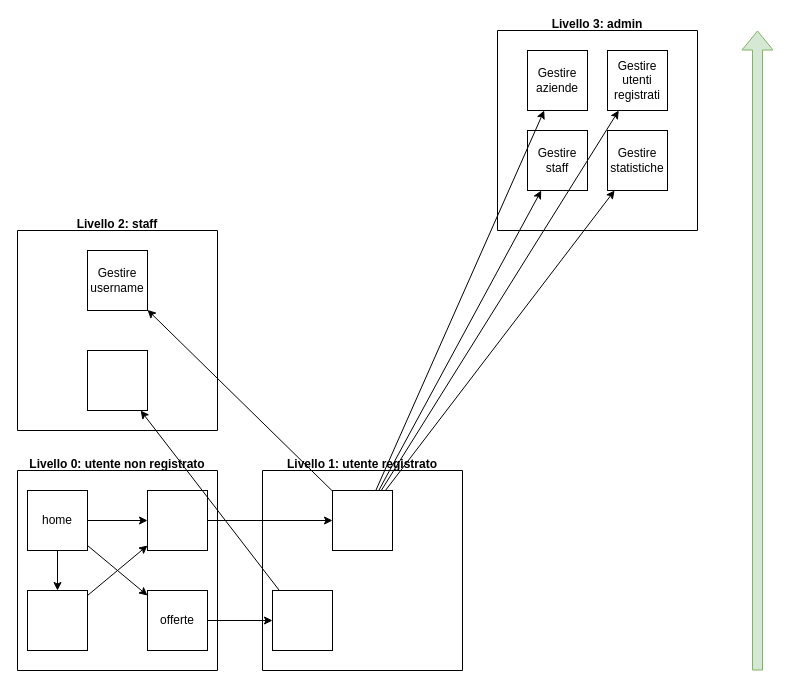
Image size: 791x688. Some labels were removed from this diagram. The centre of each missing label's shape, as x and y in pixels:
acquisire coupon: the point at 302,620
Gestire coupon: the point at 117,380
login: the point at 57,620
profilo: the point at 362,520
registrati: the point at 177,520
